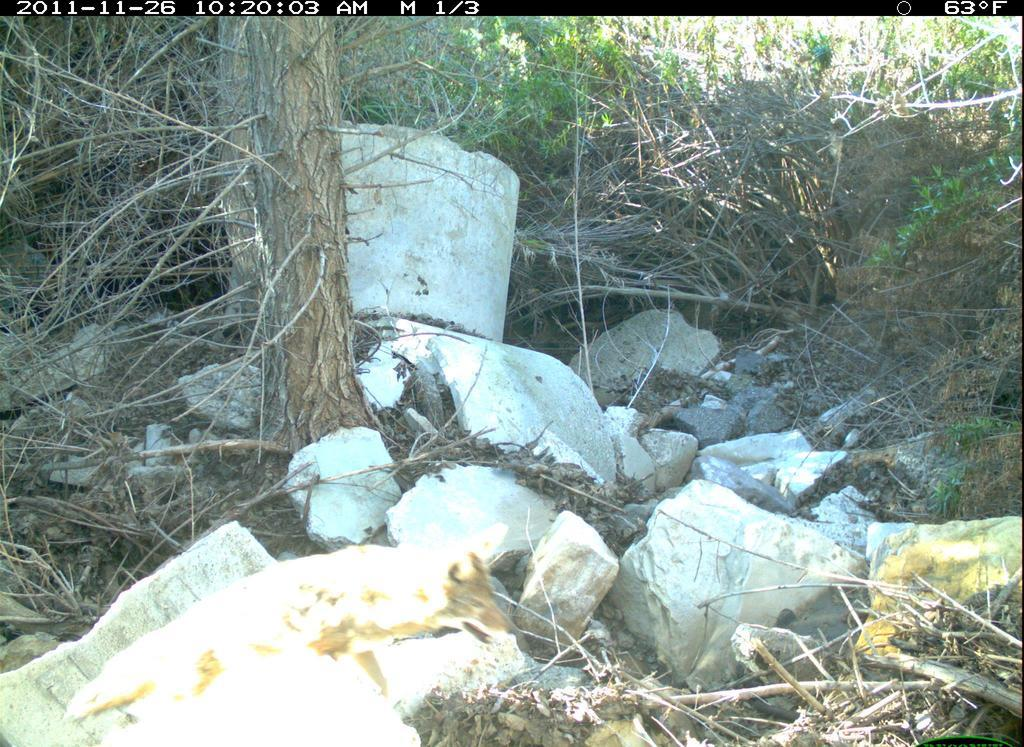coyote: (66, 530, 525, 730)
